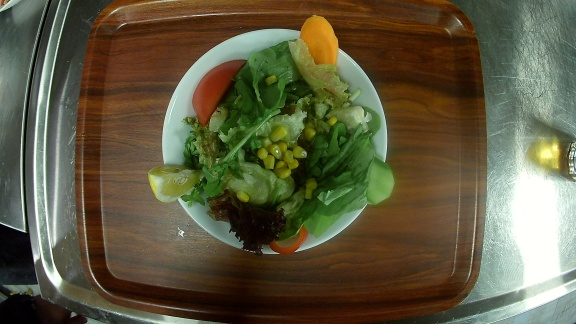salata: (157, 20, 391, 253)
